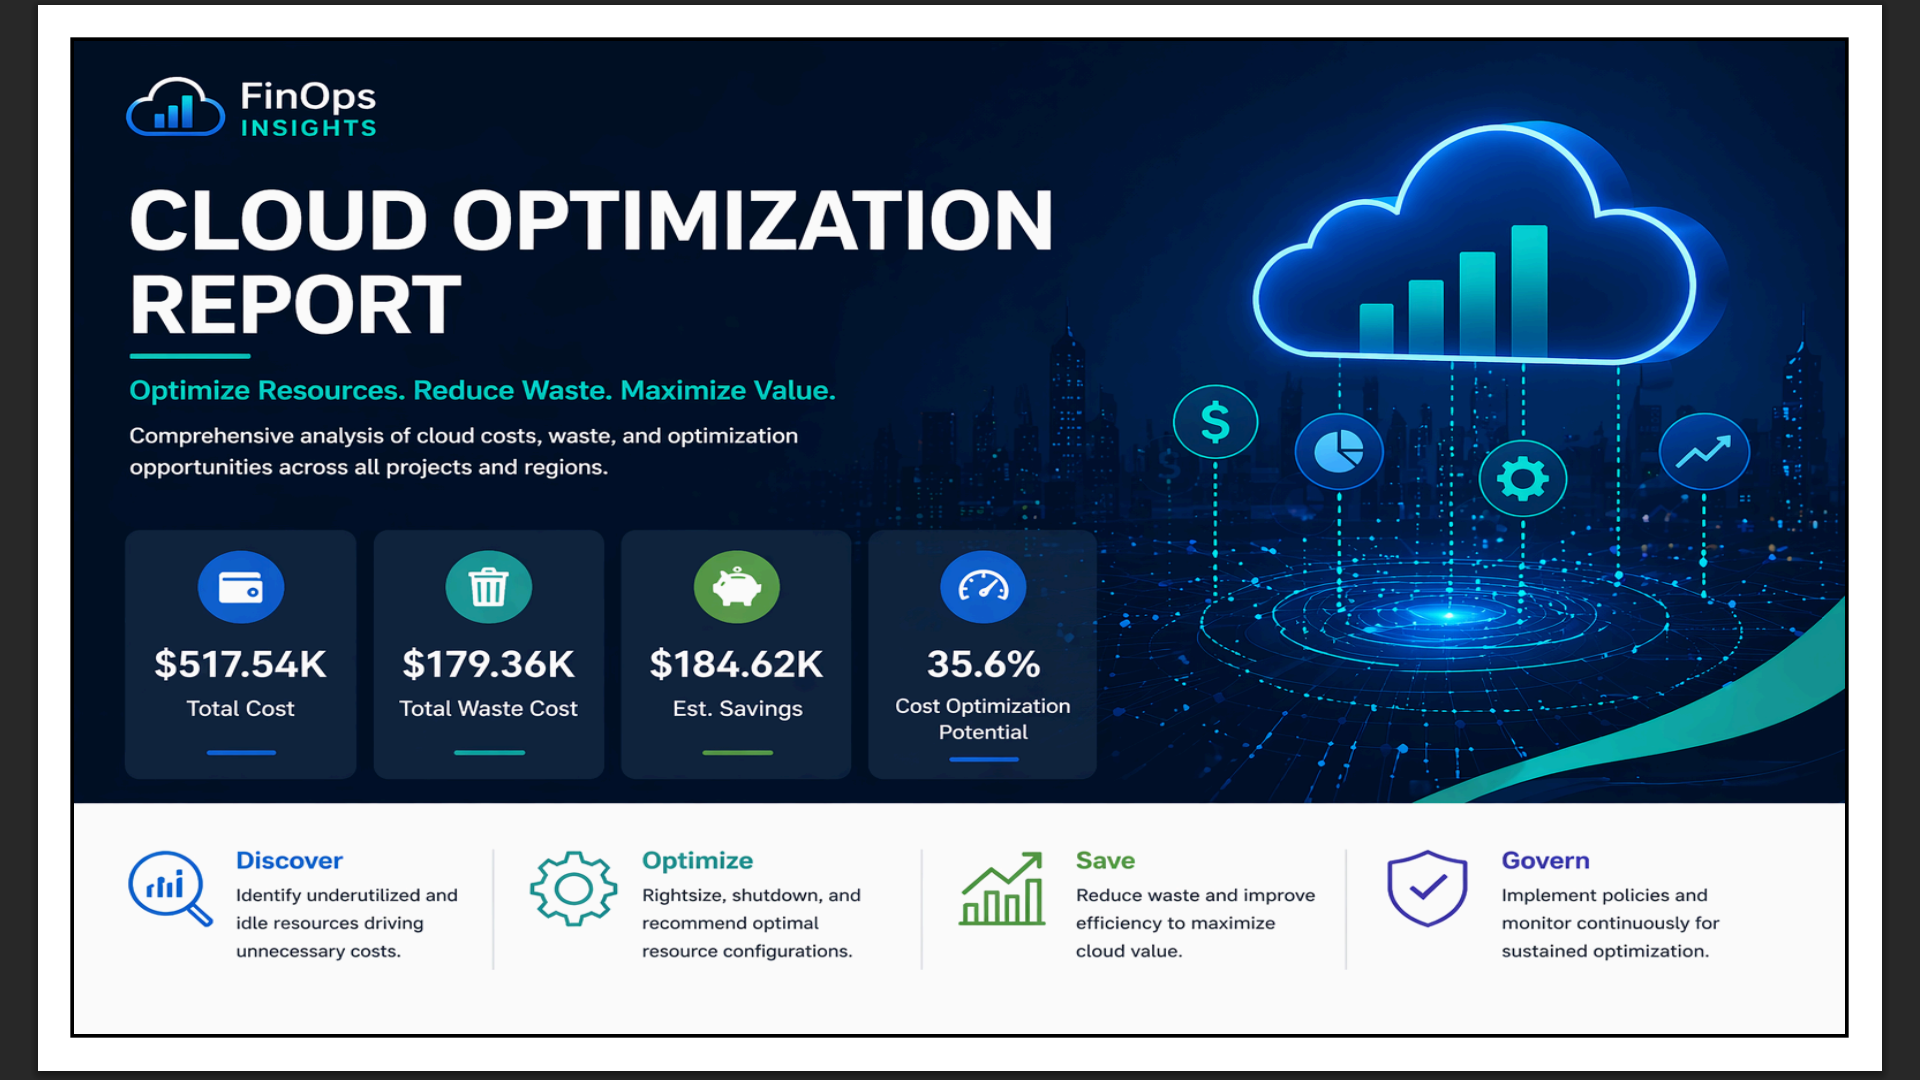

This screenshot's page, from the dashboard's own definition file:
{"tool":"powerbi","page":{"name":"Title","canvas":[1280,720],"ordinal":0},"visuals":[{"type":"image","box":[0,0,1279.9,720.2],"z":0}]}

Visuals, with their boxes in screenshot pixels (x1, y1, x2, y2), scaled from the page's 1280x720 canvas onto the 1920x1080 screenshot:
image: Rect(0, 0, 1919, 1079)
